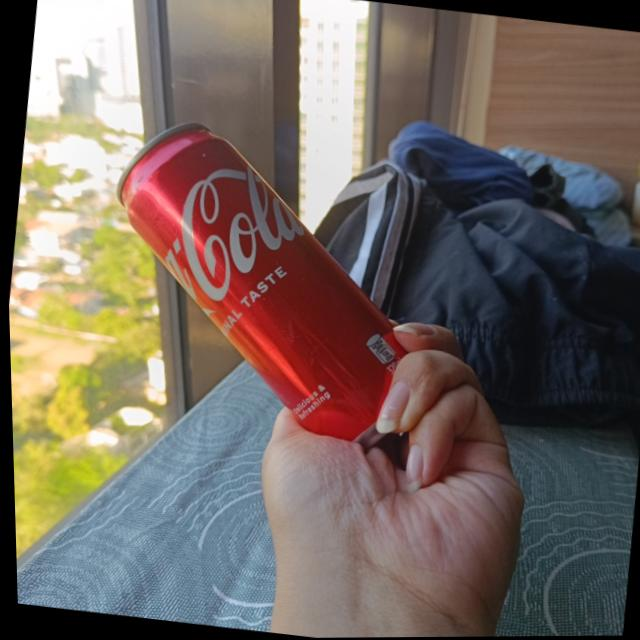coke: (87, 112, 433, 446)
